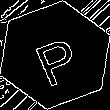P_N: (26, 25, 84, 85)
